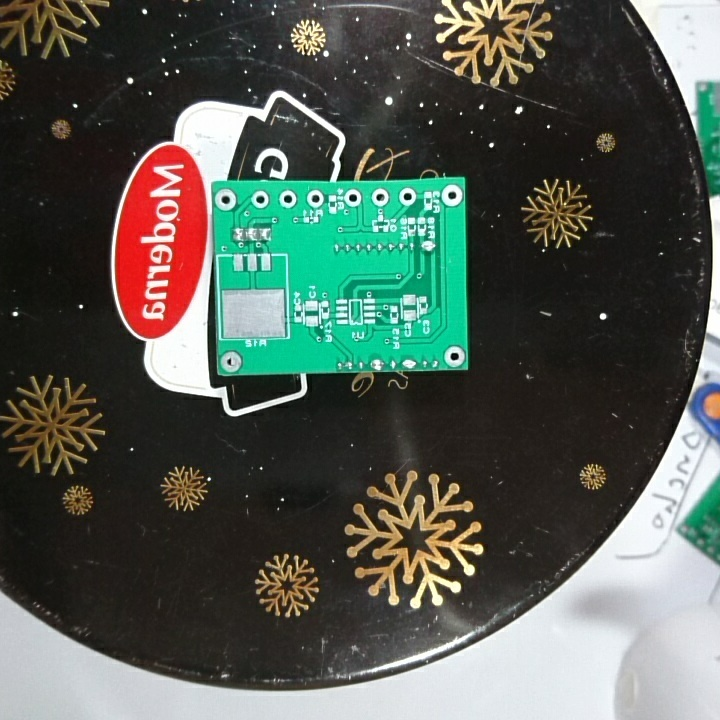F: (439, 183, 464, 210), (219, 347, 243, 375), (214, 186, 237, 213), (442, 344, 466, 369), (396, 185, 419, 208), (370, 186, 392, 209), (342, 188, 364, 210), (277, 188, 298, 209), (305, 188, 325, 210), (249, 189, 269, 211)
P: (368, 355, 388, 372), (400, 355, 418, 372), (419, 238, 438, 254)
